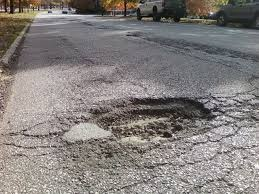pothole: (79, 99, 222, 148), (125, 31, 149, 37)
